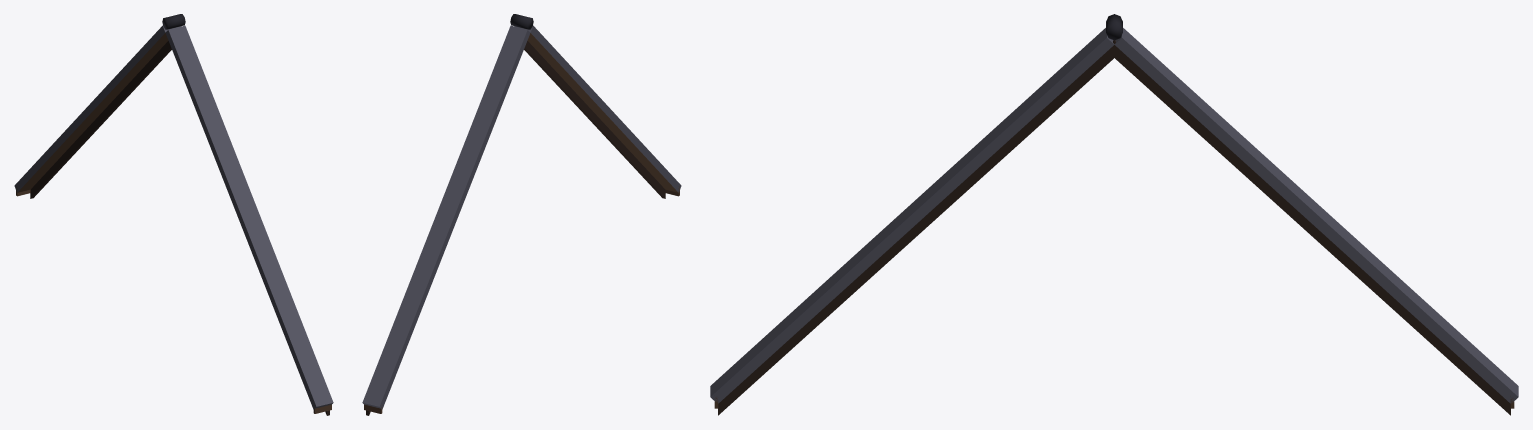
Rendered from kit_stone_slate_w6_end.glb.
3 renders of one model, left to right at view 1: azimuth 30°, elevation 25°; view 2: azimuth 150°, elevation 25°; view 3: azimuth 270°, elevation 25°, orthographic. The views are drawn at different scales.
Parts seen in each view (by area): view 1: kit_stone_slate_w6_end; view 2: kit_stone_slate_w6_end; view 3: kit_stone_slate_w6_end.
Part boxes in pixels (bbox=[...]): kit_stone_slate_w6_end: bbox=[14, 14, 333, 415]; kit_stone_slate_w6_end: bbox=[362, 14, 681, 415]; kit_stone_slate_w6_end: bbox=[710, 14, 1518, 415].
Bounding box in the file's own units: 0.22 × 3.59 × 6.73.
